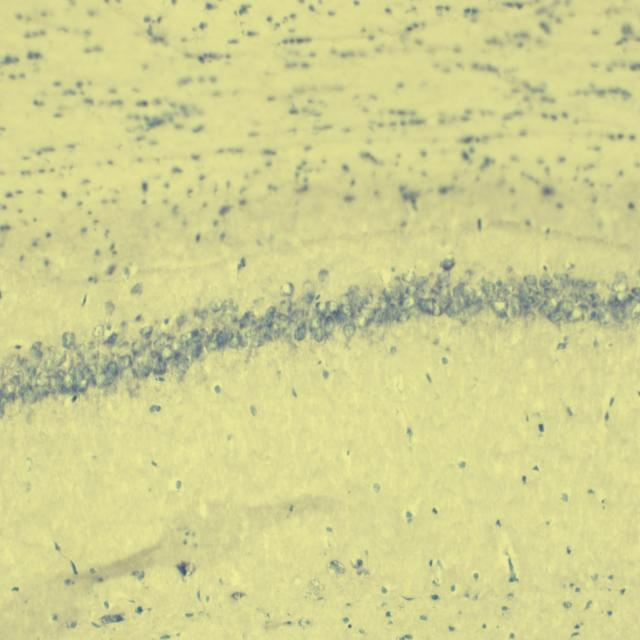neuron: (538, 295, 558, 316), (490, 296, 508, 318), (610, 302, 626, 324), (567, 306, 585, 324), (611, 278, 629, 294), (511, 293, 522, 319), (357, 305, 376, 320), (62, 330, 76, 350), (153, 356, 167, 376), (302, 280, 316, 300), (294, 319, 306, 342), (84, 348, 100, 365), (120, 366, 135, 384), (216, 330, 229, 350), (396, 308, 411, 325), (2, 383, 17, 399), (142, 358, 154, 378), (280, 282, 295, 298), (308, 316, 322, 333), (538, 271, 552, 288), (557, 300, 574, 314), (279, 298, 293, 314), (236, 330, 248, 348), (349, 316, 367, 328), (372, 306, 384, 324), (75, 378, 89, 393), (118, 354, 132, 369), (500, 282, 515, 296), (388, 303, 398, 323), (629, 302, 640, 320), (318, 269, 329, 287), (22, 386, 34, 402), (63, 374, 75, 390), (401, 296, 417, 308), (413, 276, 429, 288), (571, 278, 587, 290), (140, 325, 153, 339), (175, 348, 188, 362), (228, 335, 241, 349), (326, 301, 339, 315), (343, 324, 356, 338), (402, 270, 416, 283), (518, 283, 531, 297), (103, 301, 115, 316), (160, 345, 172, 360), (153, 338, 165, 353), (272, 322, 281, 342), (9, 353, 20, 369), (131, 339, 142, 355), (418, 298, 429, 314), (325, 315, 335, 332), (382, 287, 392, 304), (414, 287, 424, 304), (615, 292, 632, 302), (176, 360, 189, 373), (106, 361, 118, 375), (176, 314, 188, 328), (316, 302, 328, 316), (390, 290, 404, 302), (388, 278, 402, 290), (36, 371, 47, 386), (441, 259, 456, 270), (424, 298, 434, 314), (570, 288, 586, 298), (92, 325, 105, 337), (172, 339, 184, 352), (405, 284, 418, 296), (544, 286, 557, 298), (339, 303, 353, 314), (437, 271, 451, 282), (314, 327, 324, 342), (481, 282, 496, 292), (547, 312, 562, 322), (9, 374, 21, 386), (182, 331, 194, 343), (221, 313, 233, 325), (336, 312, 348, 324), (465, 269, 477, 281), (524, 274, 536, 286), (553, 273, 569, 282), (44, 358, 55, 371), (204, 339, 217, 350), (484, 292, 498, 302), (55, 368, 67, 379), (339, 294, 350, 306), (522, 296, 534, 307), (30, 349, 43, 359), (33, 389, 44, 400), (107, 333, 118, 344), (68, 364, 78, 376), (118, 341, 128, 353), (212, 301, 222, 313), (348, 285, 360, 295), (432, 304, 442, 316), (568, 292, 578, 304), (275, 313, 288, 322), (28, 365, 36, 379), (192, 333, 202, 344), (266, 306, 277, 316), (586, 279, 597, 289), (17, 369, 24, 384), (432, 284, 442, 294), (222, 300, 230, 312), (382, 308, 388, 324), (460, 277, 470, 286), (631, 286, 640, 296), (198, 310, 209, 318), (2, 366, 9, 378), (21, 356, 28, 368), (244, 328, 252, 338), (150, 350, 158, 359), (26, 376, 33, 385), (42, 390, 49, 398), (506, 266, 513, 274), (312, 309, 318, 316)
